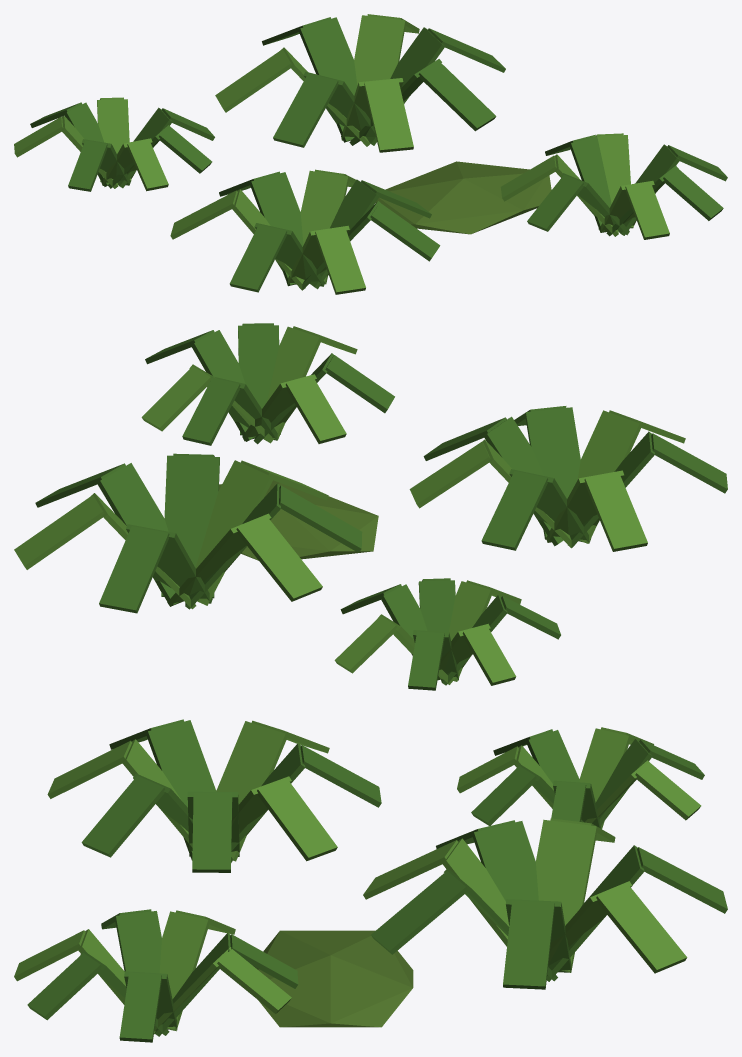
File: forest_patch_fern.glb
The picture shows the model from 3 angles, top to bottom: view 1: azimuth 30°, elevation 25°; view 2: azimuth 150°, elevation 25°; view 3: azimuth 270°, elevation 25°; orthographic projection. The views are drawn at different scales.
Parts seen in each view (by area): view 1: forest_patch_fern; view 2: forest_patch_fern; view 3: forest_patch_fern.
Part boxes in pixels (x1,y1,x2,y2): forest_patch_fern: (14,14,727,294); forest_patch_fern: (14,323,727,690); forest_patch_fern: (14,719,727,1042).
Size of the model in its own units: 3.74 by 0.6677 by 3.68.
